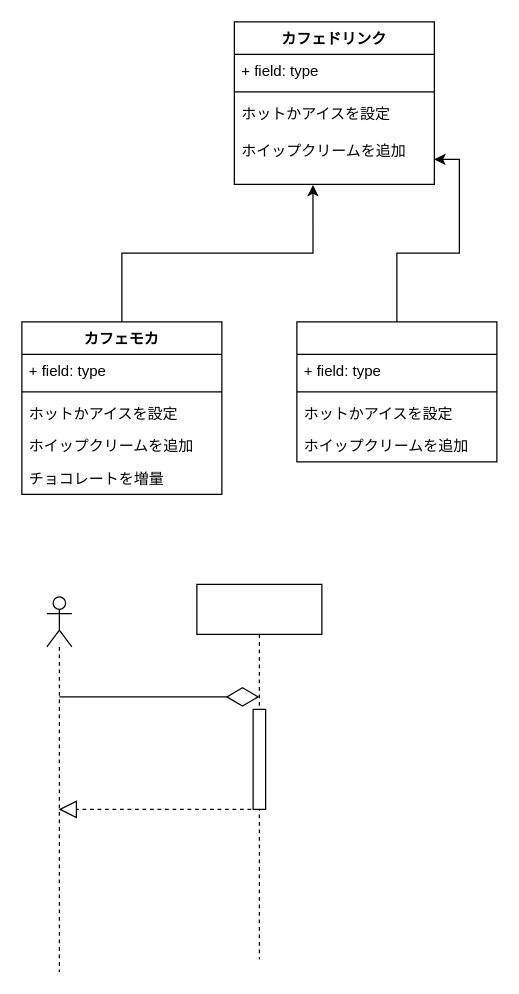
Some shapes in this 519 by 994 pixel diagram are drawn without their labels. The box of each missing label's shape, as (x1, y1, x2, y2) in pixels:
:Object: (196, 583, 322, 959)
カフェラテ: (296, 321, 497, 462)
